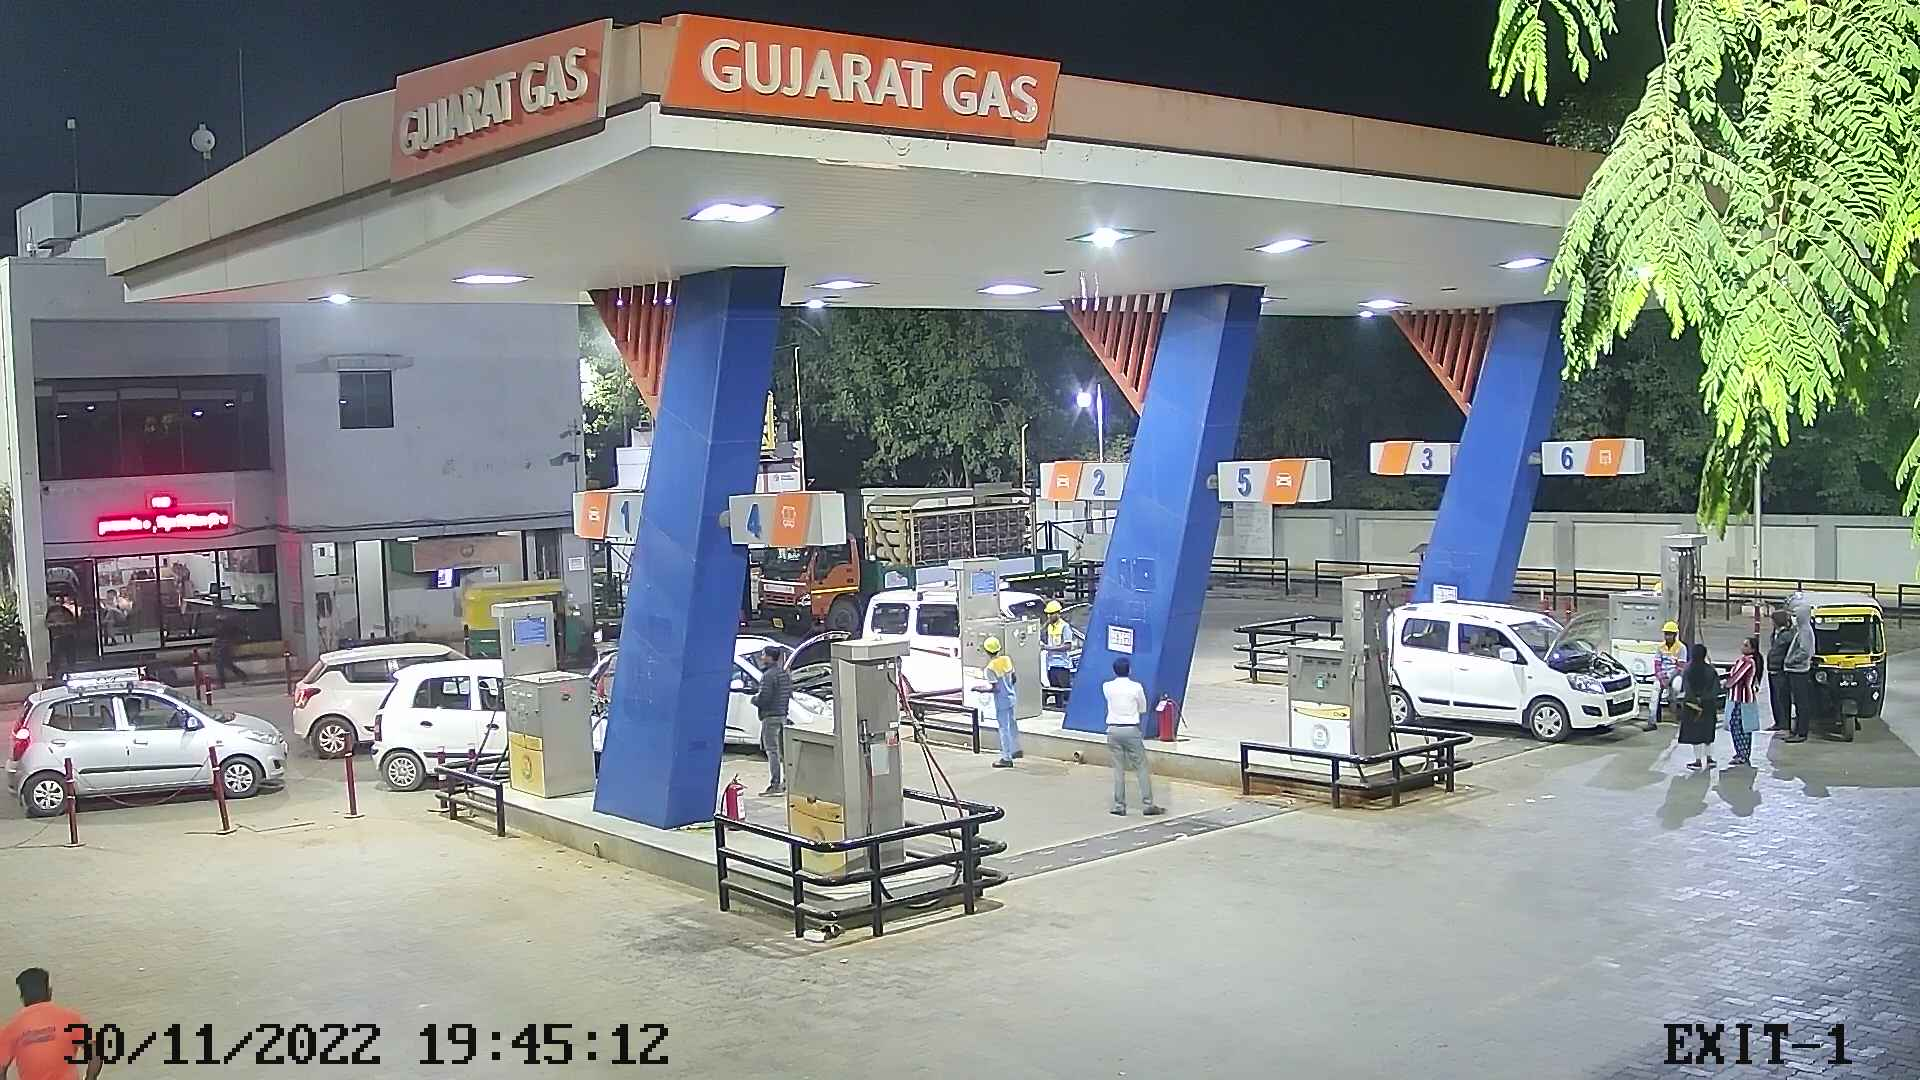Auto: (1753, 575, 1903, 752), (451, 564, 618, 673)
Car: (1, 657, 299, 824), (1375, 587, 1652, 754), (284, 634, 502, 766), (361, 645, 520, 800), (708, 624, 869, 767), (851, 574, 967, 731)
HMV: (746, 467, 1083, 653)
Others: (967, 633, 1033, 779), (1027, 593, 1085, 716), (1644, 613, 1701, 737)
